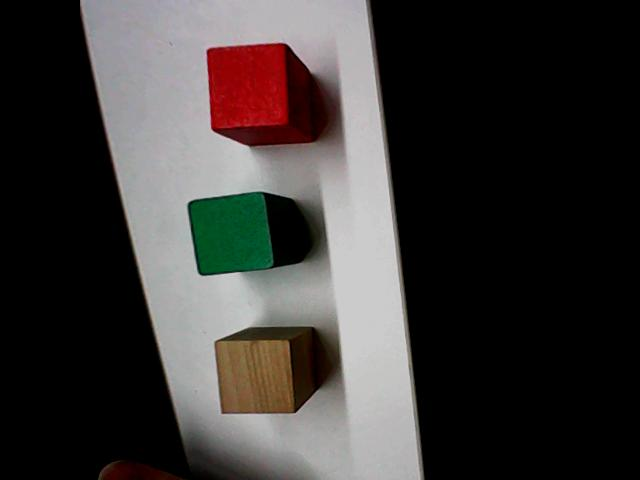green_box: (183, 188, 305, 279)
raw_box: (210, 314, 326, 422)
red_box: (201, 39, 318, 149)
